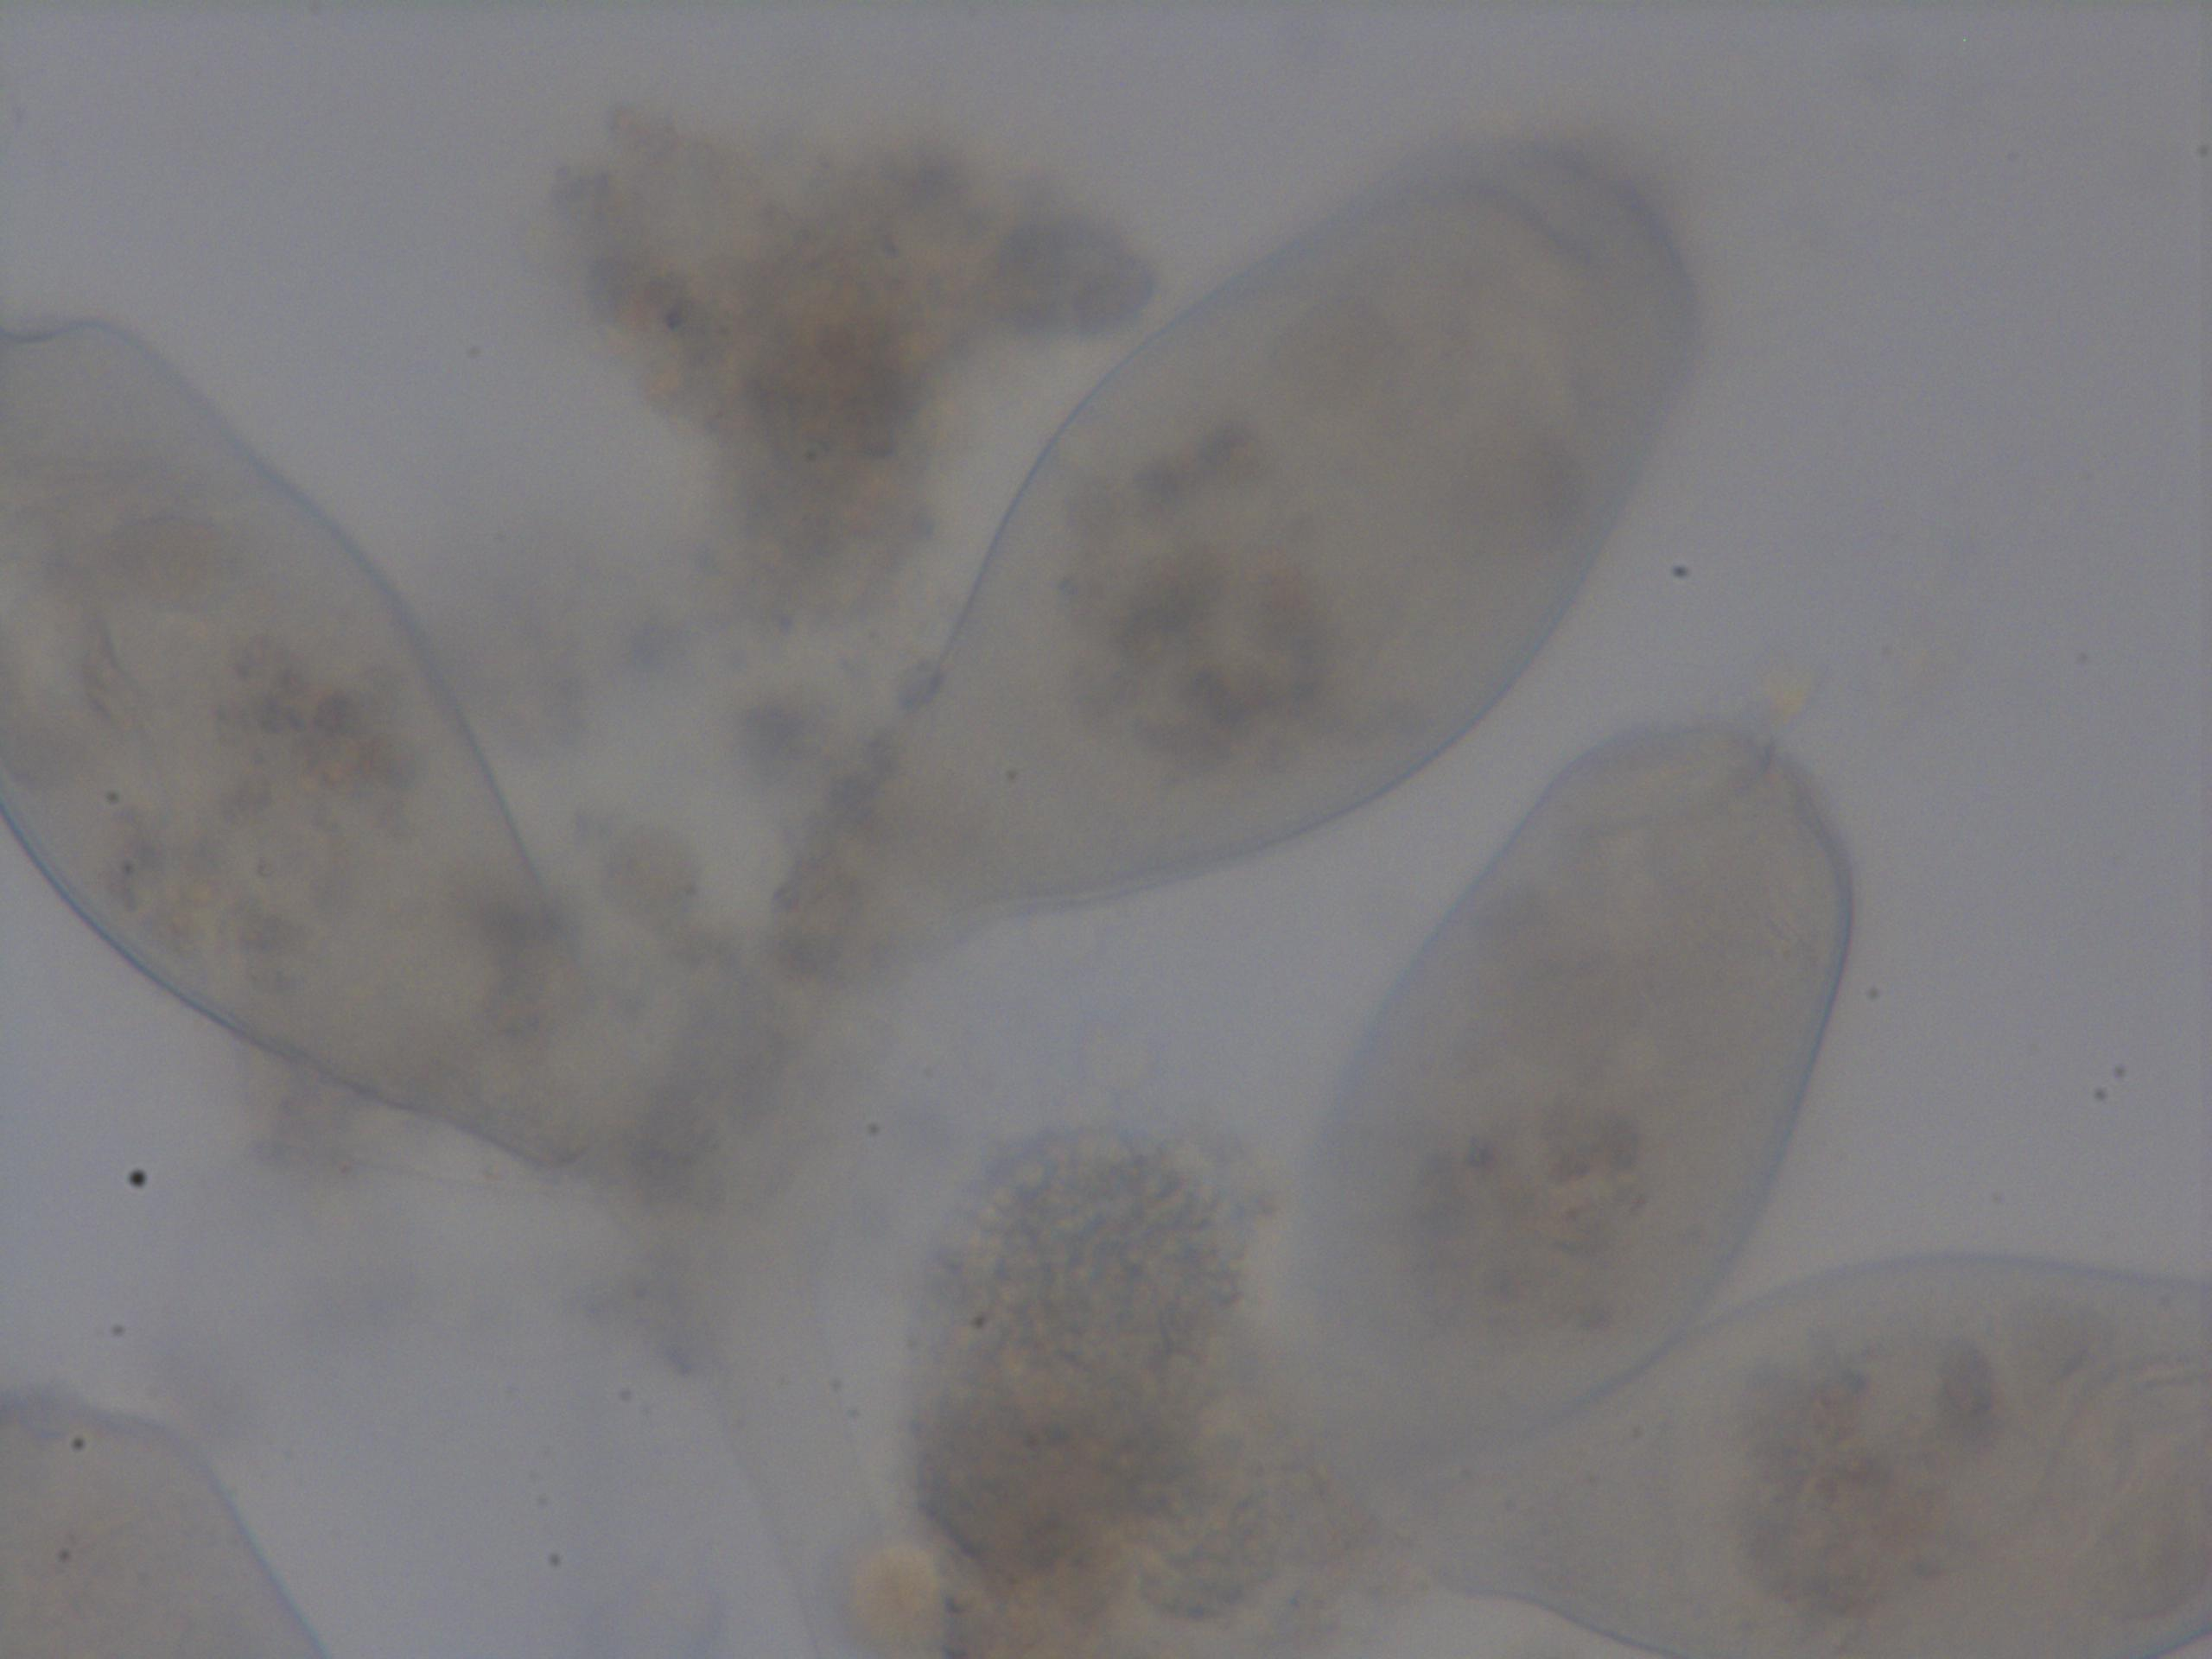protozoa: (1278, 708, 2212, 1654)
